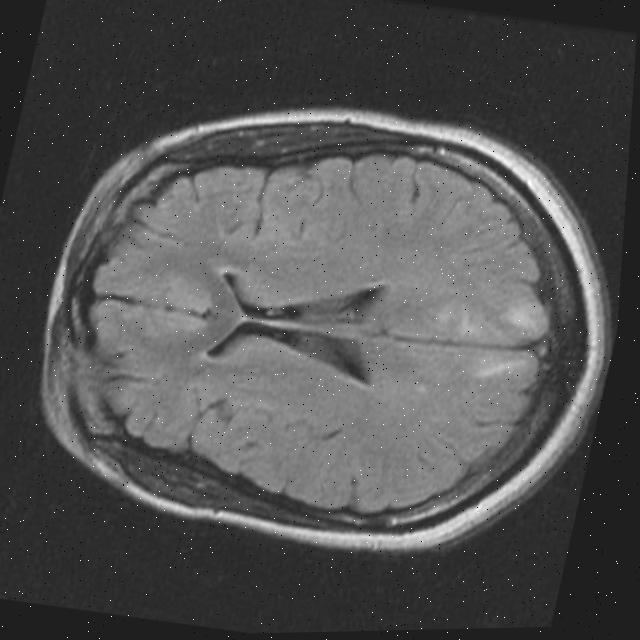NoTumor: (0, 57, 635, 598)
